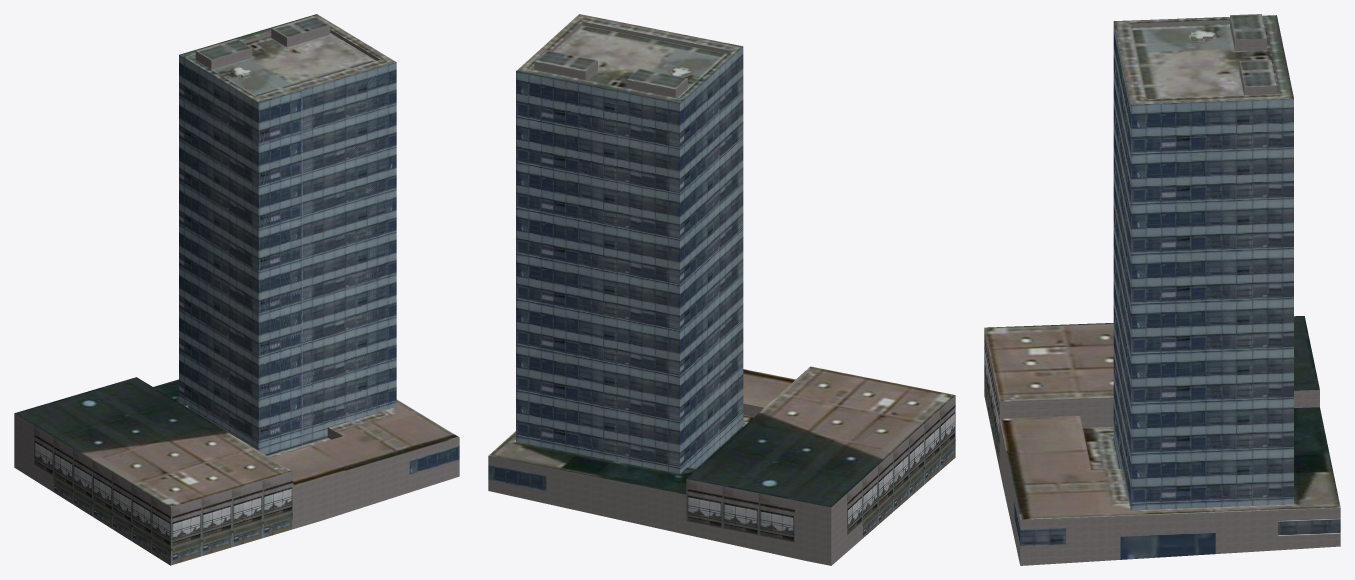
File: LondonBuilding.dae
3 renders of one model, left to right at view 1: azimuth 30°, elevation 25°; view 2: azimuth 150°, elevation 25°; view 3: azimuth 270°, elevation 25°, orthographic. The views are drawn at different scales.
Visible parts, largest first — view 1: SketchUp (×13); view 2: SketchUp (×13); view 3: SketchUp (×14).
Boxes of the visible parts, x1,y1,x2,y2 form: SketchUp (×13): [14, 14, 459, 565]; SketchUp (×13): [488, 14, 955, 565]; SketchUp (×14): [984, 14, 1340, 565].
Bounding box in the file's own units: 2196 × 1774 × 2549.
Materials: 7 (7 with a texture image).
